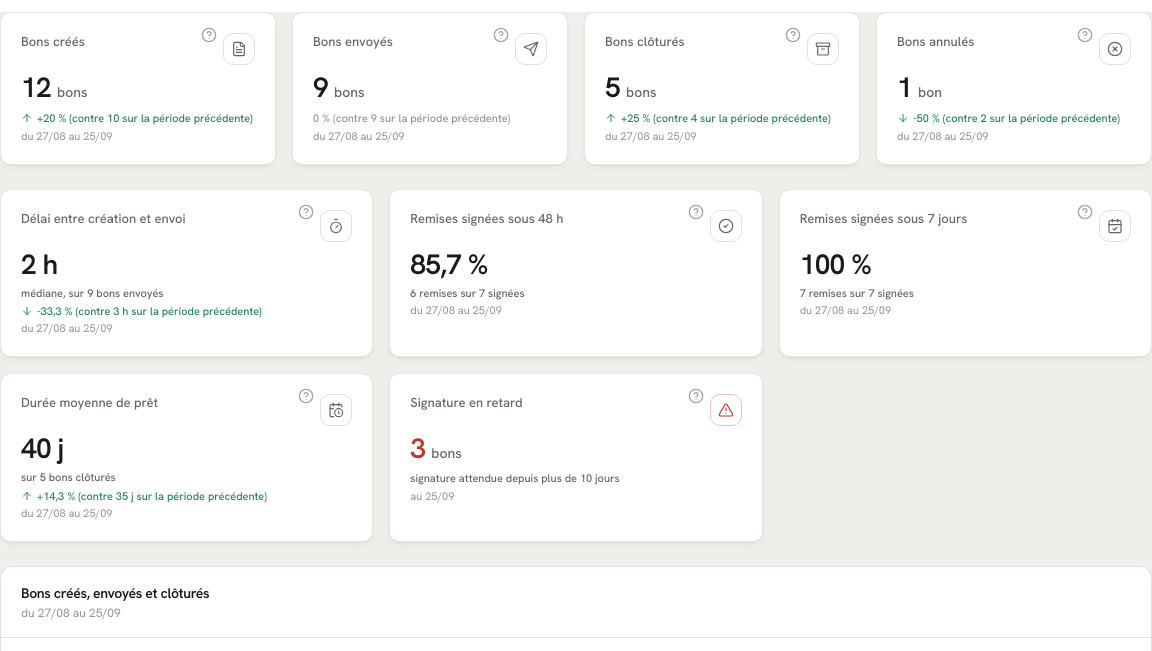
Scenario: DelaisTab › IT : « Bons envoyés », sans filtre équivalent dans la liste des bons, garde sa liste dans le tableau de bord ; direction : aucune liste, le « ? » dit pourquoi
The width and height of the screenshot is (1152, 651).
Expected: the element labelled "Bons créés" is shown, [1, 13, 275, 164]
Click the button named "Pourquoi pas de liste : Bons créés": click(209, 35) [187, 13, 231, 57]
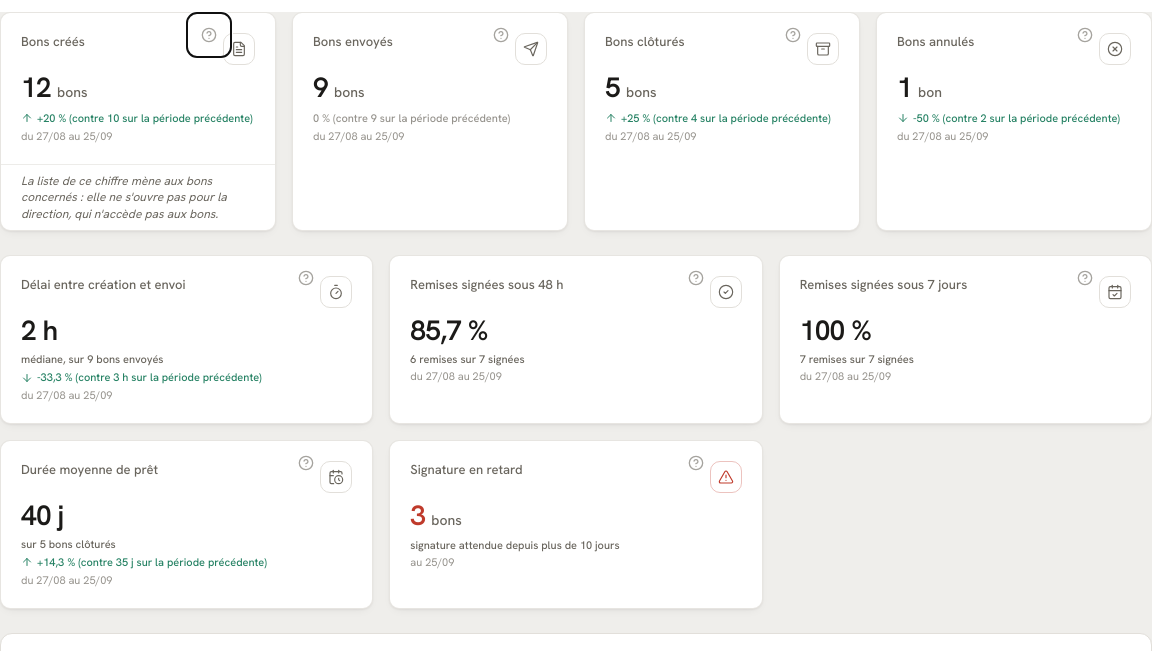
Now the text "n'accède pas aux bons" is shown, box [21, 173, 227, 222]
